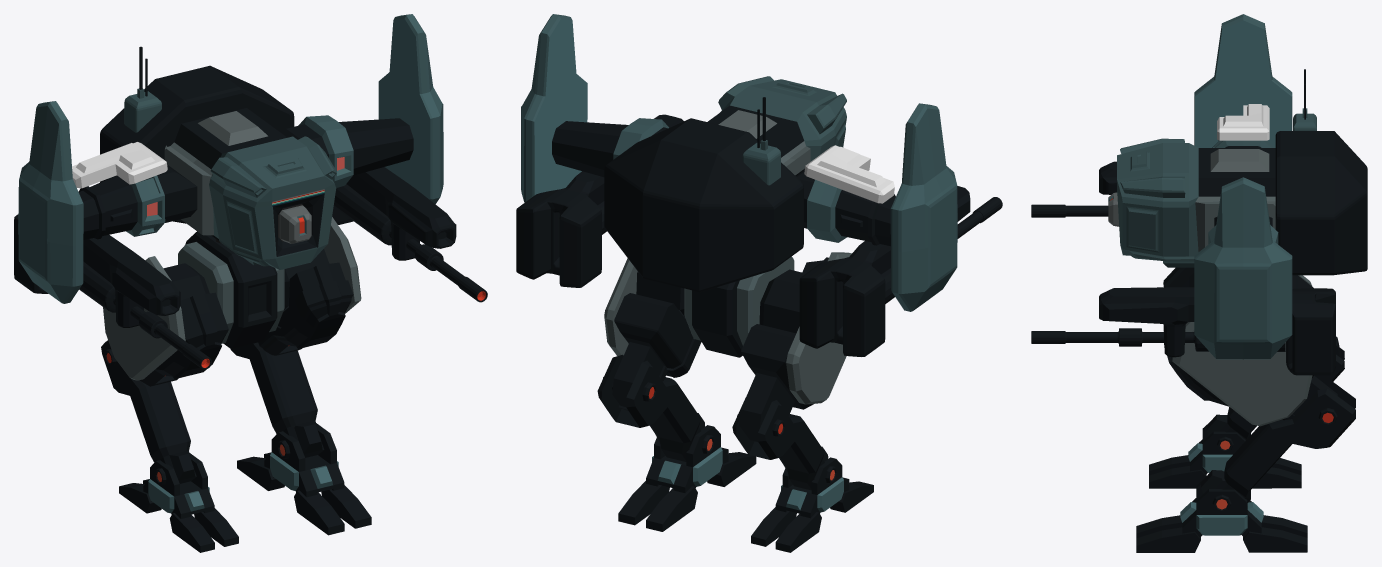
File: Robot-524_HighPoly.fbx
3 renders of one model, left to right at view 1: azimuth 30°, elevation 25°; view 2: azimuth 150°, elevation 25°; view 3: azimuth 270°, elevation 25°, orthographic. The views are drawn at different scales.
Parts seen in each view (by area): view 1: Base, Leg, Cube; view 2: Base, Leg, Cube; view 3: Base, Leg, Cube.
Boxes of the visible parts, x1,y1,x2,y2 form: Base: (14,14,487,369); Leg: (101,217,371,552); Cube: (72,142,167,188); Base: (516,14,1002,356); Leg: (597,252,873,552); Cube: (804,145,894,203); Base: (1031,14,1367,375); Leg: (1136,267,1355,552); Cube: (1217,104,1269,140).
Bounding box in the file's own units: 745 × 798 × 581.
